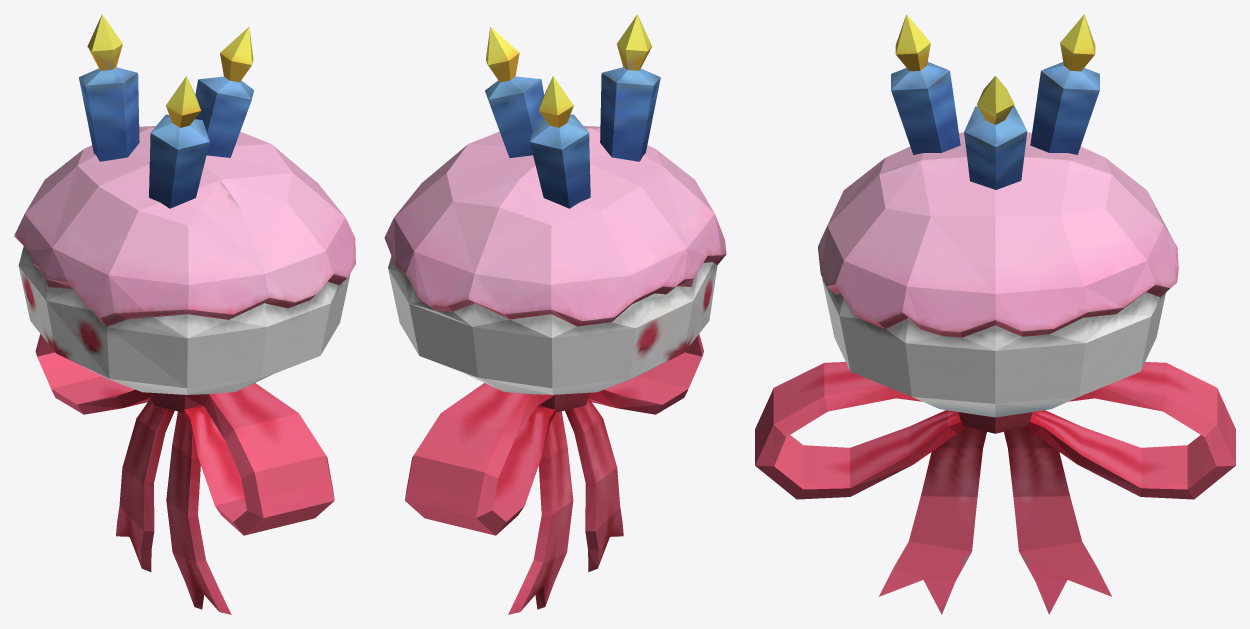
Rendered from Monkey_bdWeapon.obj.
3 views of the same model, side by side, from view 1: azimuth 30°, elevation 25°; view 2: azimuth 150°, elevation 25°; view 3: azimuth 270°, elevation 25° (orthographic). The views are drawn at different scales.
Parts seen in each view (by area): view 1: Monkey_bdWeapon_tri; view 2: Monkey_bdWeapon_tri; view 3: Monkey_bdWeapon_tri.
Boxes of the visible parts, left/top/right/bottom form: Monkey_bdWeapon_tri: left=14, top=14, right=355, bottom=614; Monkey_bdWeapon_tri: left=384, top=14, right=726, bottom=614; Monkey_bdWeapon_tri: left=755, top=14, right=1235, bottom=614.
Size of the model in its own units: 0.245 by 0.4601 by 0.3432.
1 material, 1 textured.
